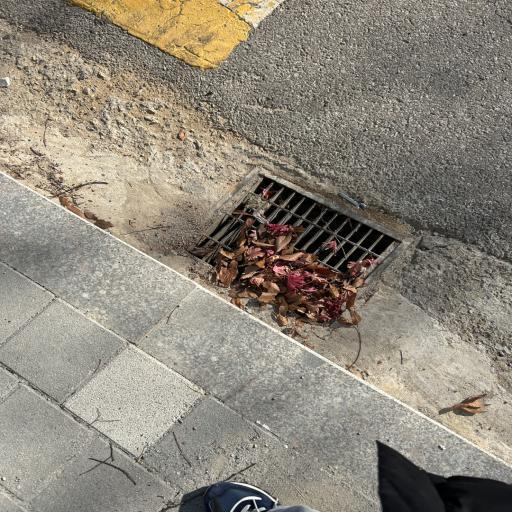debris: (215, 218, 375, 325), (324, 240, 336, 252)
drain: (176, 166, 410, 332)
